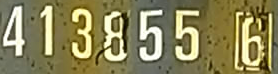eight: (104, 13, 129, 63)
five: (140, 11, 164, 64), (176, 11, 200, 62)
four: (5, 6, 26, 59)
one: (41, 6, 54, 58)
six: (243, 18, 266, 67)
three: (72, 8, 94, 61)
